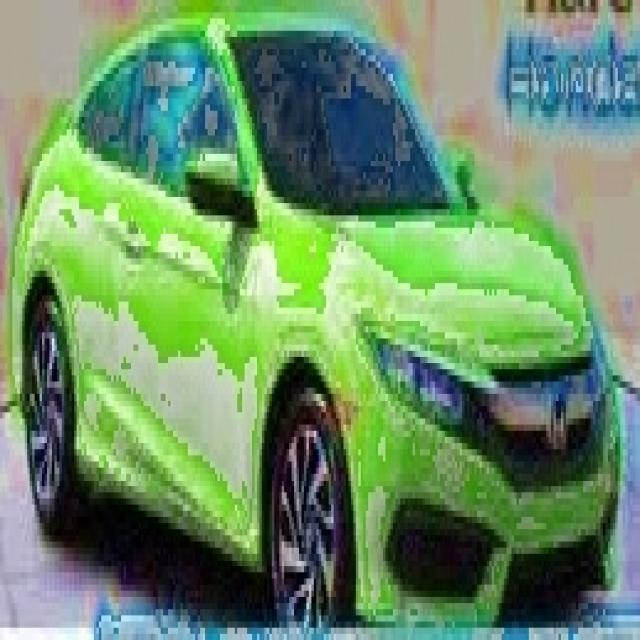green: (11, 16, 619, 624)
